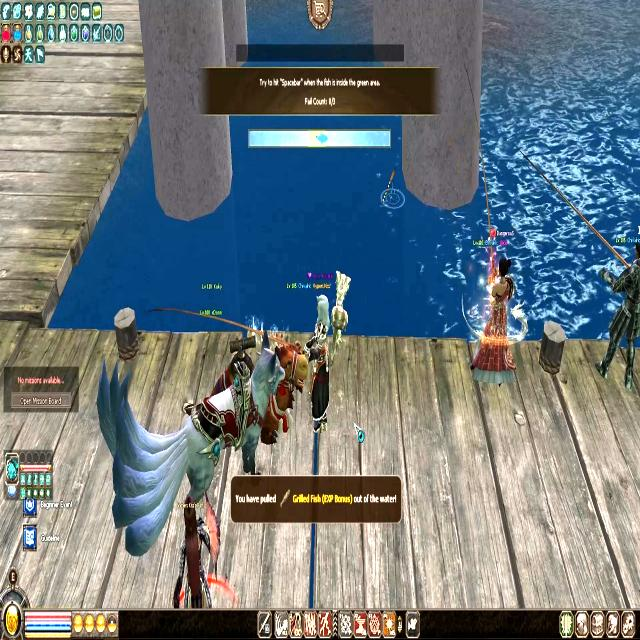fishes: (314, 132, 330, 145)
